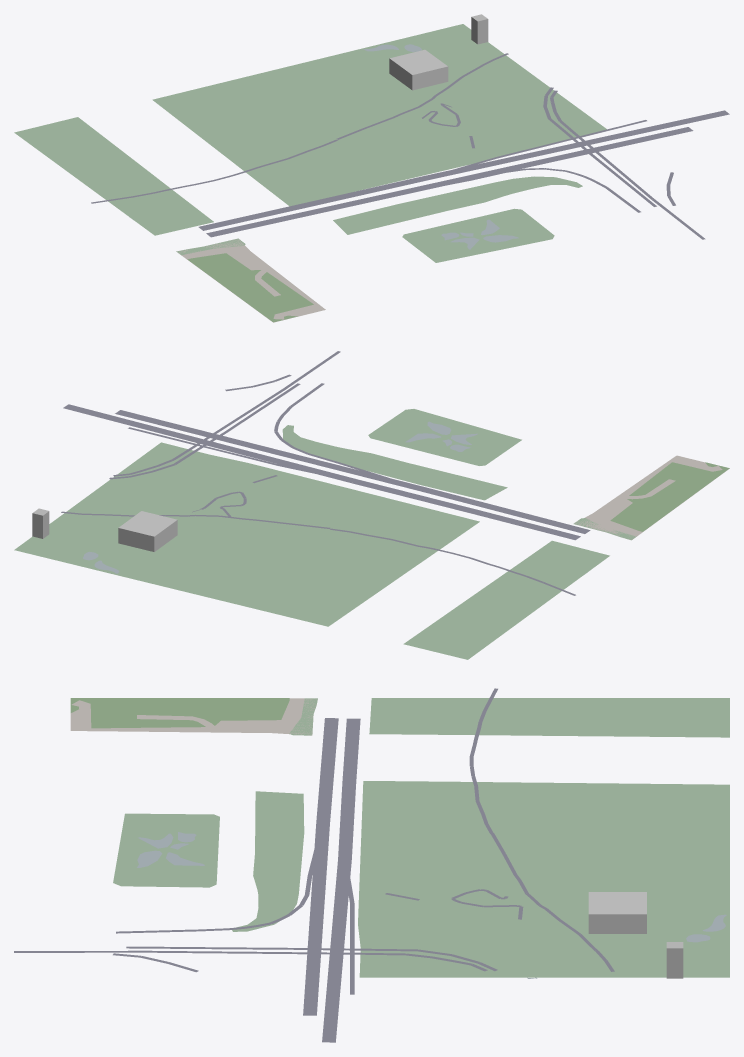
File: 120_80_mid.glb
3 renders of one model, top to bottom at view 1: azimuth 30°, elevation 25°; view 2: azimuth 150°, elevation 25°; view 3: azimuth 270°, elevation 25°, orthographic. The views are drawn at different scales.
Bounding box in the file's own units: 635 × 25.6 × 543.
